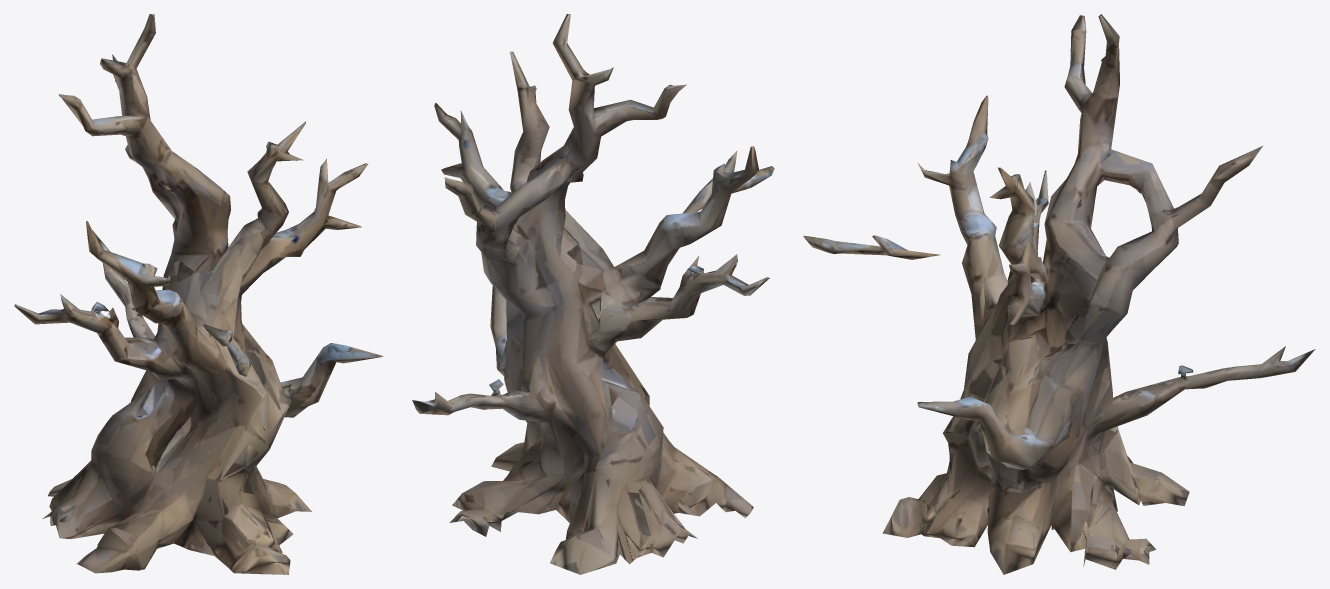
Rendered from tree_desert_dead.glb.
3 views of the same model, side by side, from view 1: azimuth 30°, elevation 25°; view 2: azimuth 150°, elevation 25°; view 3: azimuth 270°, elevation 25° (orthographic). The views are drawn at different scales.
Parts seen in each view (by area): view 1: BakeLow; view 2: BakeLow; view 3: BakeLow.
Boxes of the visible parts, x1,y1,x2,y2 form: BakeLow: (14,14,383,574); BakeLow: (412,14,774,574); BakeLow: (803,14,1315,574).
Bounding box in the file's own units: 0.6453 × 0.9048 × 0.8297.
Materials: 1 (1 with a texture image).
